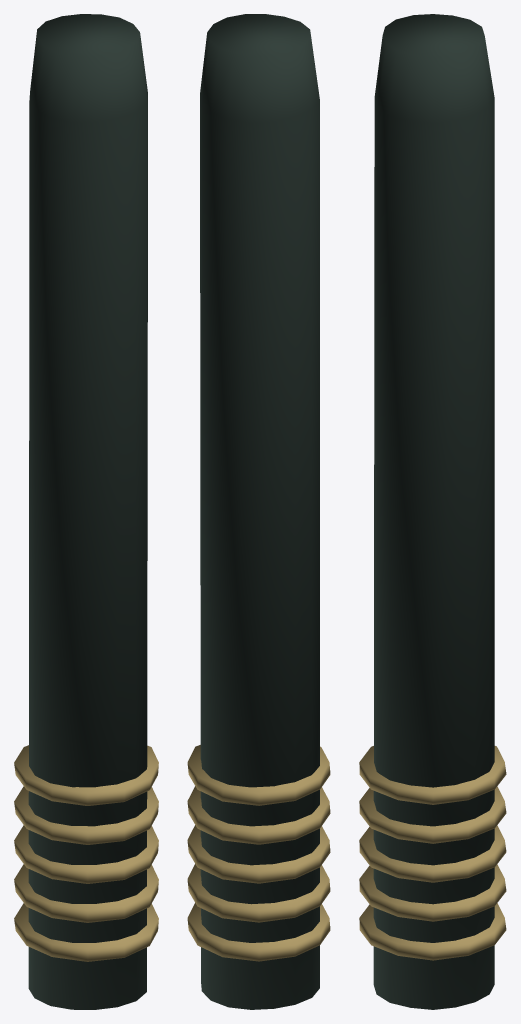
The model's file is baton.glb.
3 renders of one model, left to right at view 1: azimuth 30°, elevation 25°; view 2: azimuth 150°, elevation 25°; view 3: azimuth 270°, elevation 25°, orthographic.
Visible parts, largest first — view 1: Nightstick, Grip band.004, Grip band.001, Grip band.002, Grip band.003, Grip band; view 2: Nightstick, Grip band.004, Grip band.001, Grip band.002, Grip band, Grip band.003; view 3: Nightstick, Grip band.004, Grip band, Grip band.001, Grip band.002, Grip band.003.
Boxes of the visible parts, x1,y1,x2,y2 form: Nightstick: (28,14,147,1009); Grip band.004: (14,745,158,805); Grip band.001: (14,864,158,922); Grip band.002: (14,825,158,883); Grip band.003: (14,786,158,844); Grip band: (14,903,158,961); Nightstick: (200,14,319,1009); Grip band.004: (187,745,330,805); Grip band.001: (187,864,330,922); Grip band.002: (187,825,330,883); Grip band: (187,903,330,961); Grip band.003: (187,786,330,844); Nightstick: (373,14,494,1009); Grip band.004: (359,746,506,804); Grip band: (359,903,506,960); Grip band.001: (359,864,506,921); Grip band.002: (359,825,506,882); Grip band.003: (359,786,506,843).
Size of the model in its own units: 0.0845 by 0.61 by 0.0856.
